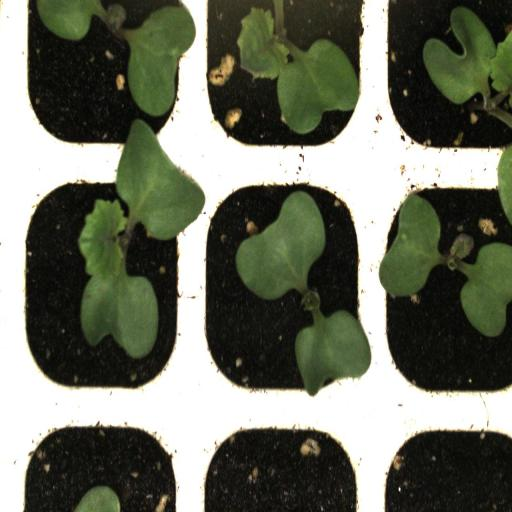seedling: (194, 150, 372, 412), (10, 153, 193, 407), (375, 169, 512, 414), (9, 1, 194, 165), (195, 1, 373, 165)
